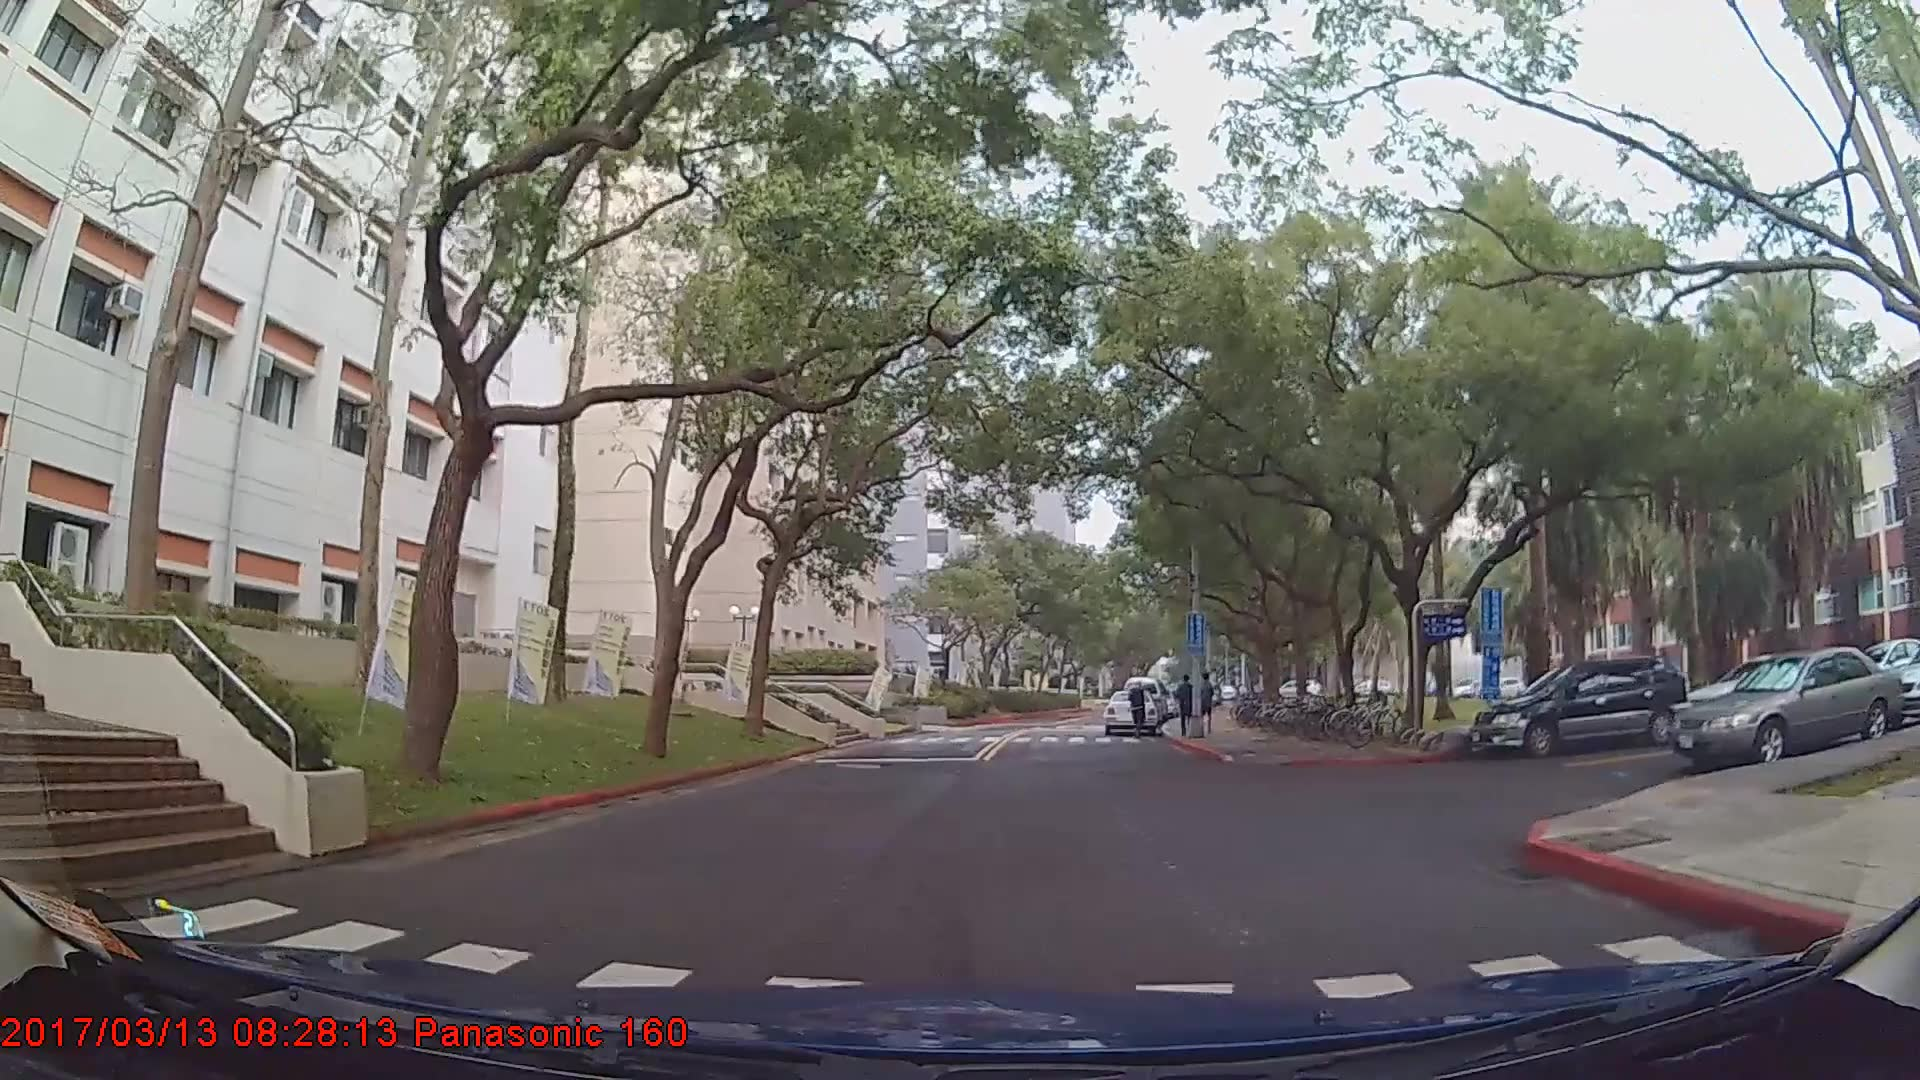pedestrian: (1178, 677, 1200, 734), (1128, 681, 1148, 741)
vehicle: (1666, 645, 1905, 768), (1469, 653, 1686, 761), (1099, 687, 1158, 734)
